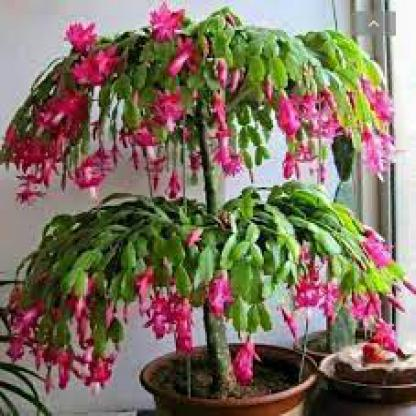Aglonema: (70, 161, 406, 273)
